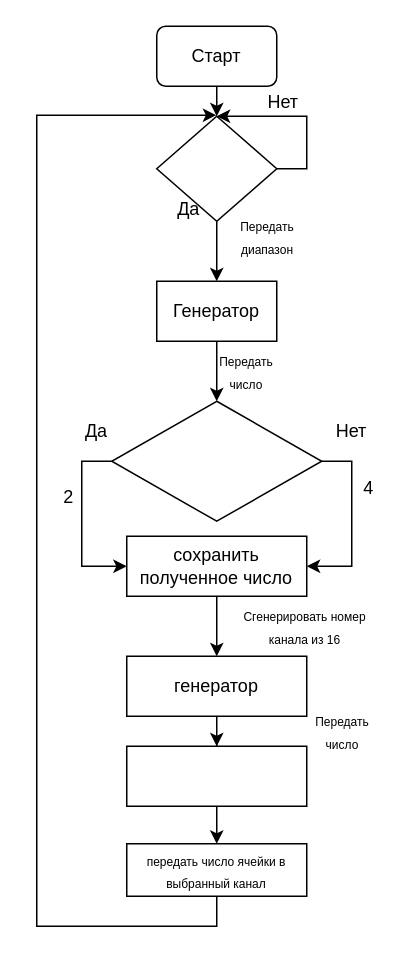
This 408x965 diagram has some shape labels left out. The centre of each missing label's shape, as x and y in pixels:
Запрос на генерацию получен?: the point at 216,168
сохранить номер канала: the point at 216,775
число меньше 90% диапазона?: the point at 216,460
